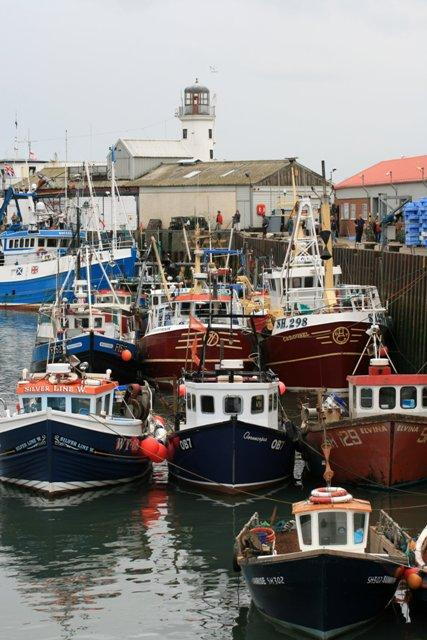fishing boat: (227, 475, 417, 637), (262, 201, 392, 392), (168, 312, 299, 499), (0, 351, 166, 498), (0, 143, 141, 309), (300, 312, 425, 492), (30, 248, 146, 384), (147, 282, 260, 380)
